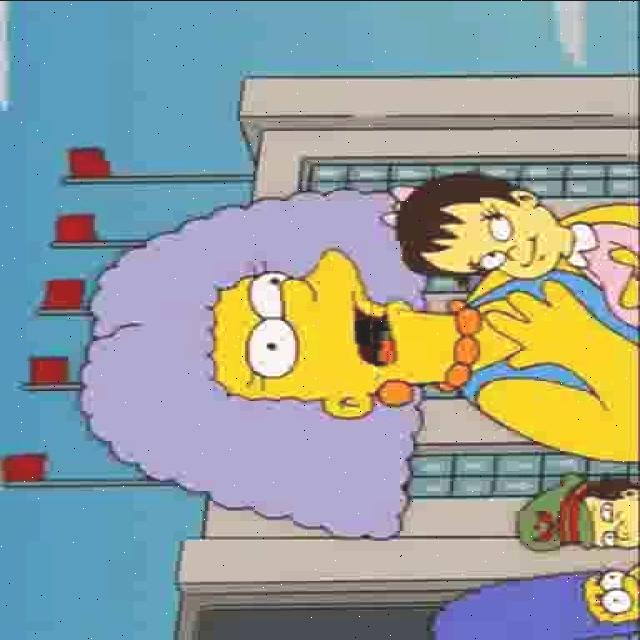Marge Simpson: (428, 564, 640, 640)
